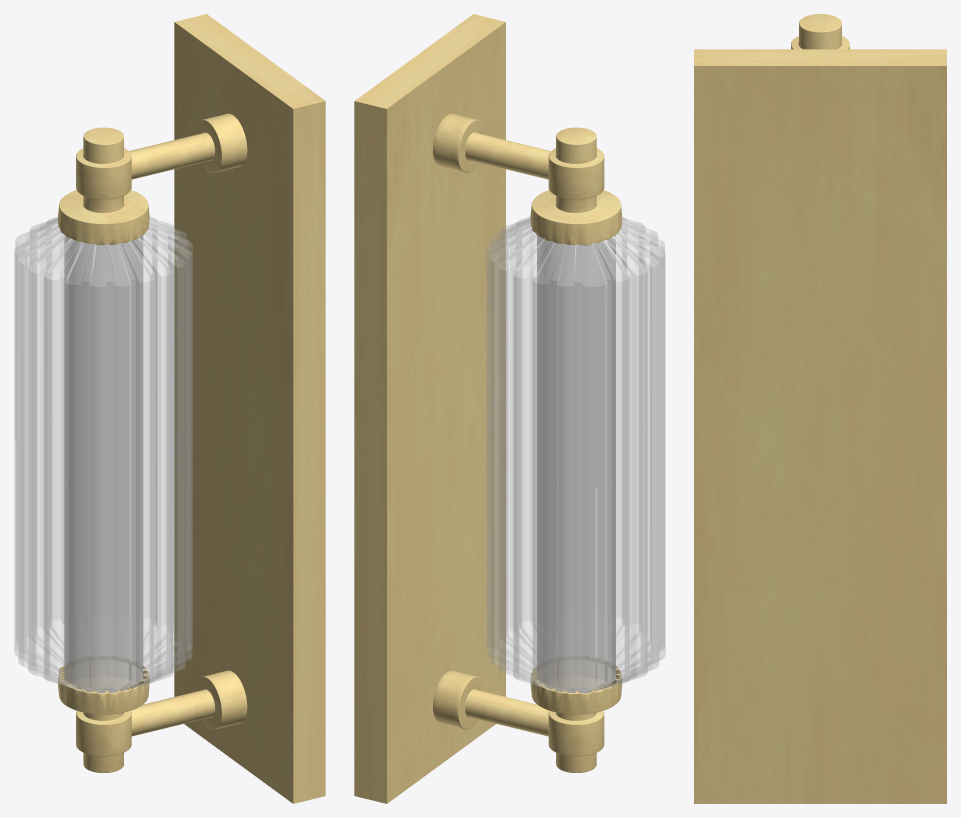
The model's file is wac-portos-wall-sconce.glb.
3 renders of one model, left to right at view 1: azimuth 30°, elevation 25°; view 2: azimuth 150°, elevation 25°; view 3: azimuth 270°, elevation 25°, orthographic. The views are drawn at different scales.
Visible parts, largest first — view 1: hanging-stand, cover, light-diffuser; view 2: hanging-stand, cover, light-diffuser; view 3: hanging-stand, cover.
Part boxes in pixels (x1,y1,x2,y2): hanging-stand: [174, 14, 325, 803]; cover: [14, 113, 247, 772]; light-diffuser: [64, 235, 143, 693]; hanging-stand: [354, 14, 505, 803]; cover: [433, 113, 665, 772]; light-diffuser: [537, 235, 615, 693]; hanging-stand: [694, 49, 946, 803]; cover: [791, 14, 849, 49].
Size of the model in its own units: 0.1968 by 0.5448 by 0.1691.
4 materials, 2 textured.
